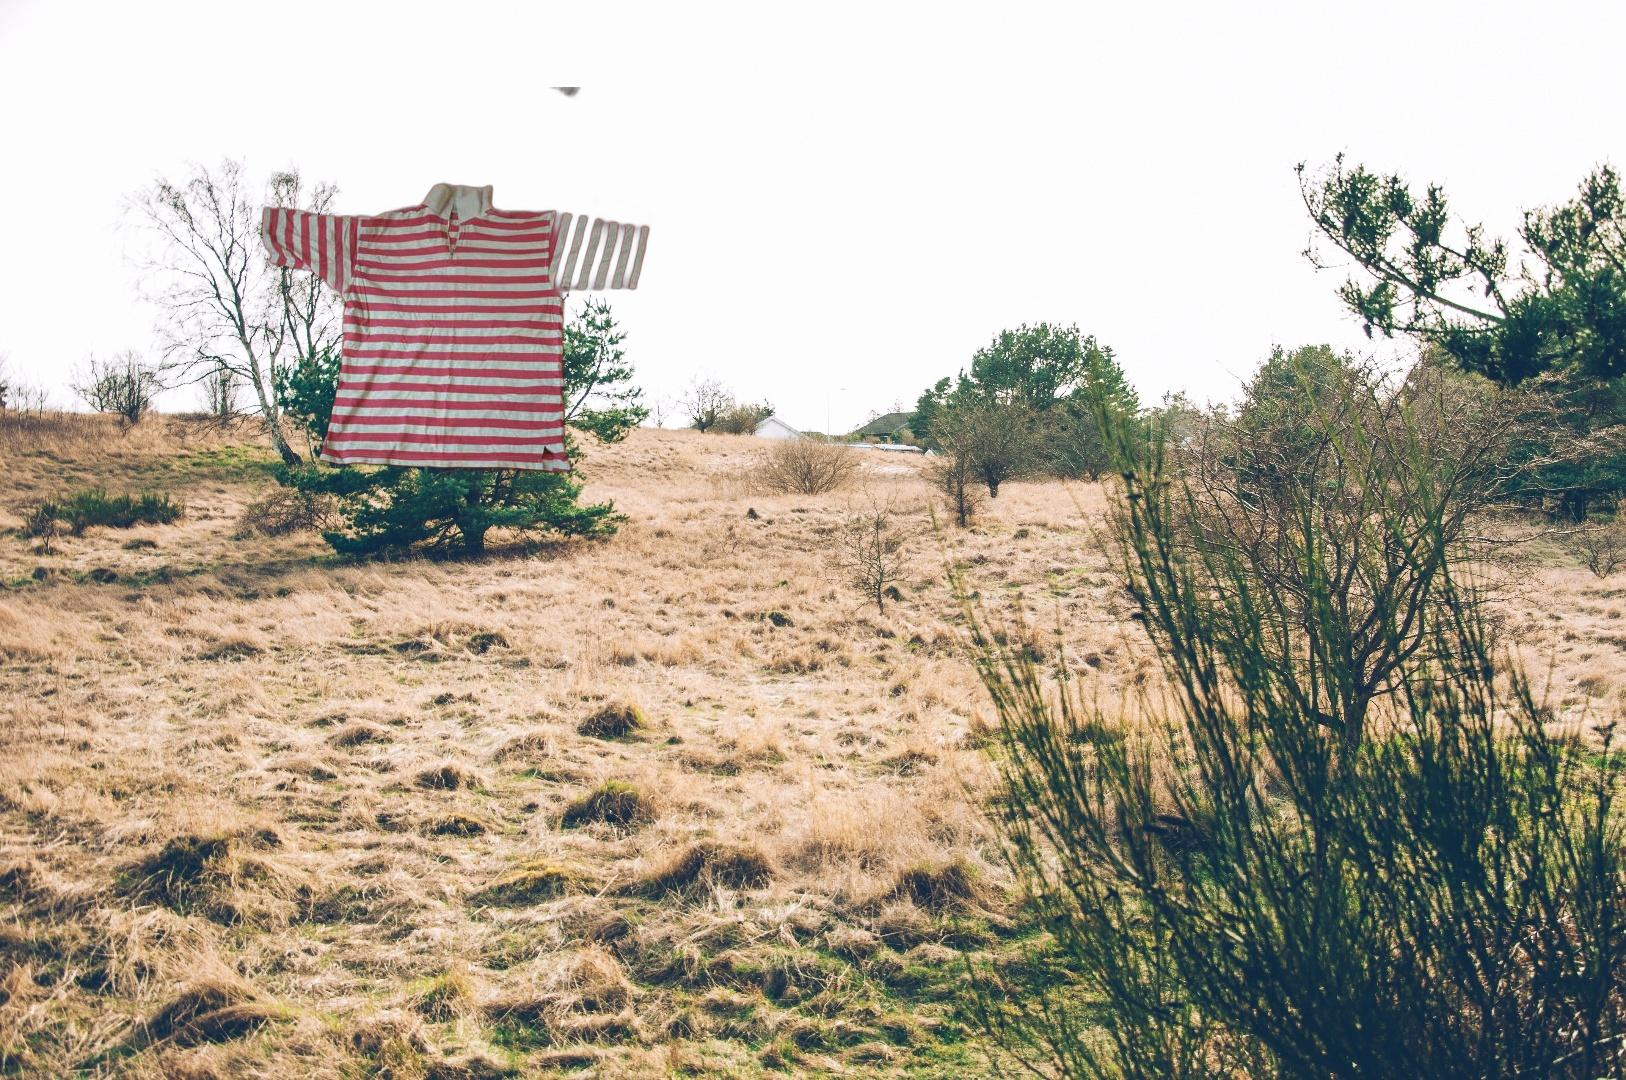clothes: (260, 87, 654, 479)
